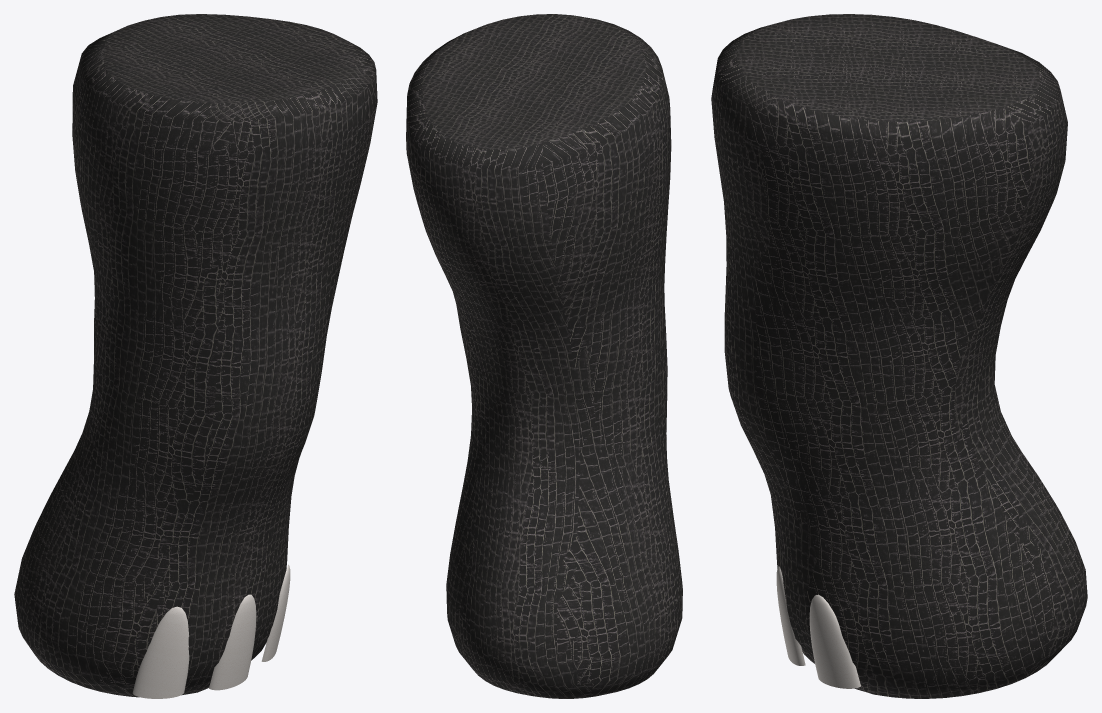
File: item 1.FBX
3 renders of one model, left to right at view 1: azimuth 30°, elevation 25°; view 2: azimuth 150°, elevation 25°; view 3: azimuth 270°, elevation 25°, orthographic. The views are drawn at different scales.
Parts seen in each view (by area): view 1: uñas; view 2: uñas; view 3: uñas.
Part boxes in pixels (x1,y1,x2,y2): uñas: (14,14,377,698); uñas: (406,14,682,698); uñas: (711,14,1087,698).
Bounding box in the file's own units: 62.68 × 130 × 68.11.
